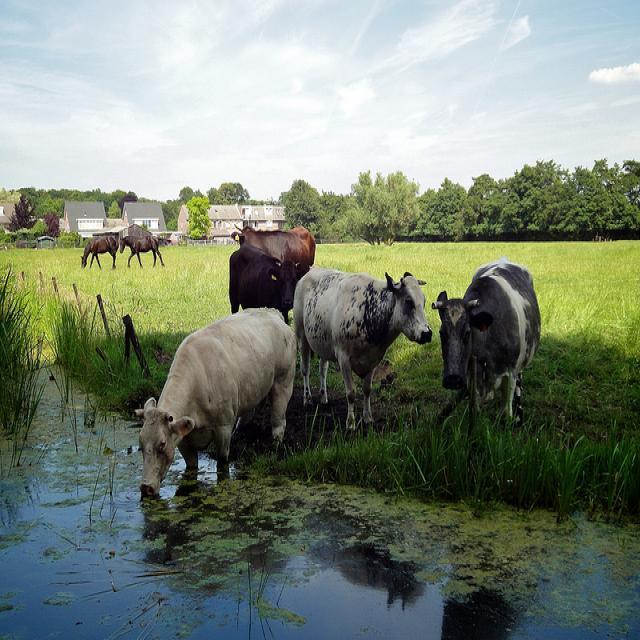cow: (133, 303, 295, 493), (292, 268, 431, 437), (429, 257, 542, 423), (227, 243, 300, 323), (229, 220, 317, 277)
